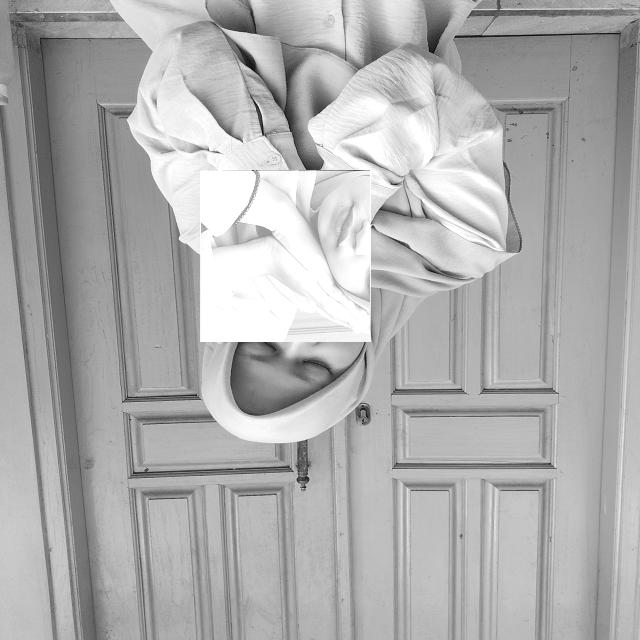tidur: (200, 171, 371, 342)
